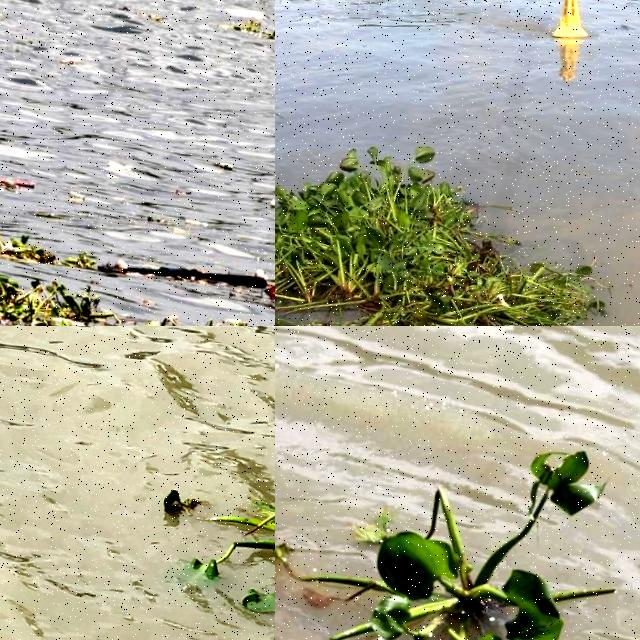water-hyacinth: (276, 436, 626, 640), (276, 113, 472, 327), (276, 209, 603, 327), (152, 479, 276, 619), (1, 251, 106, 327), (1, 223, 46, 266)
